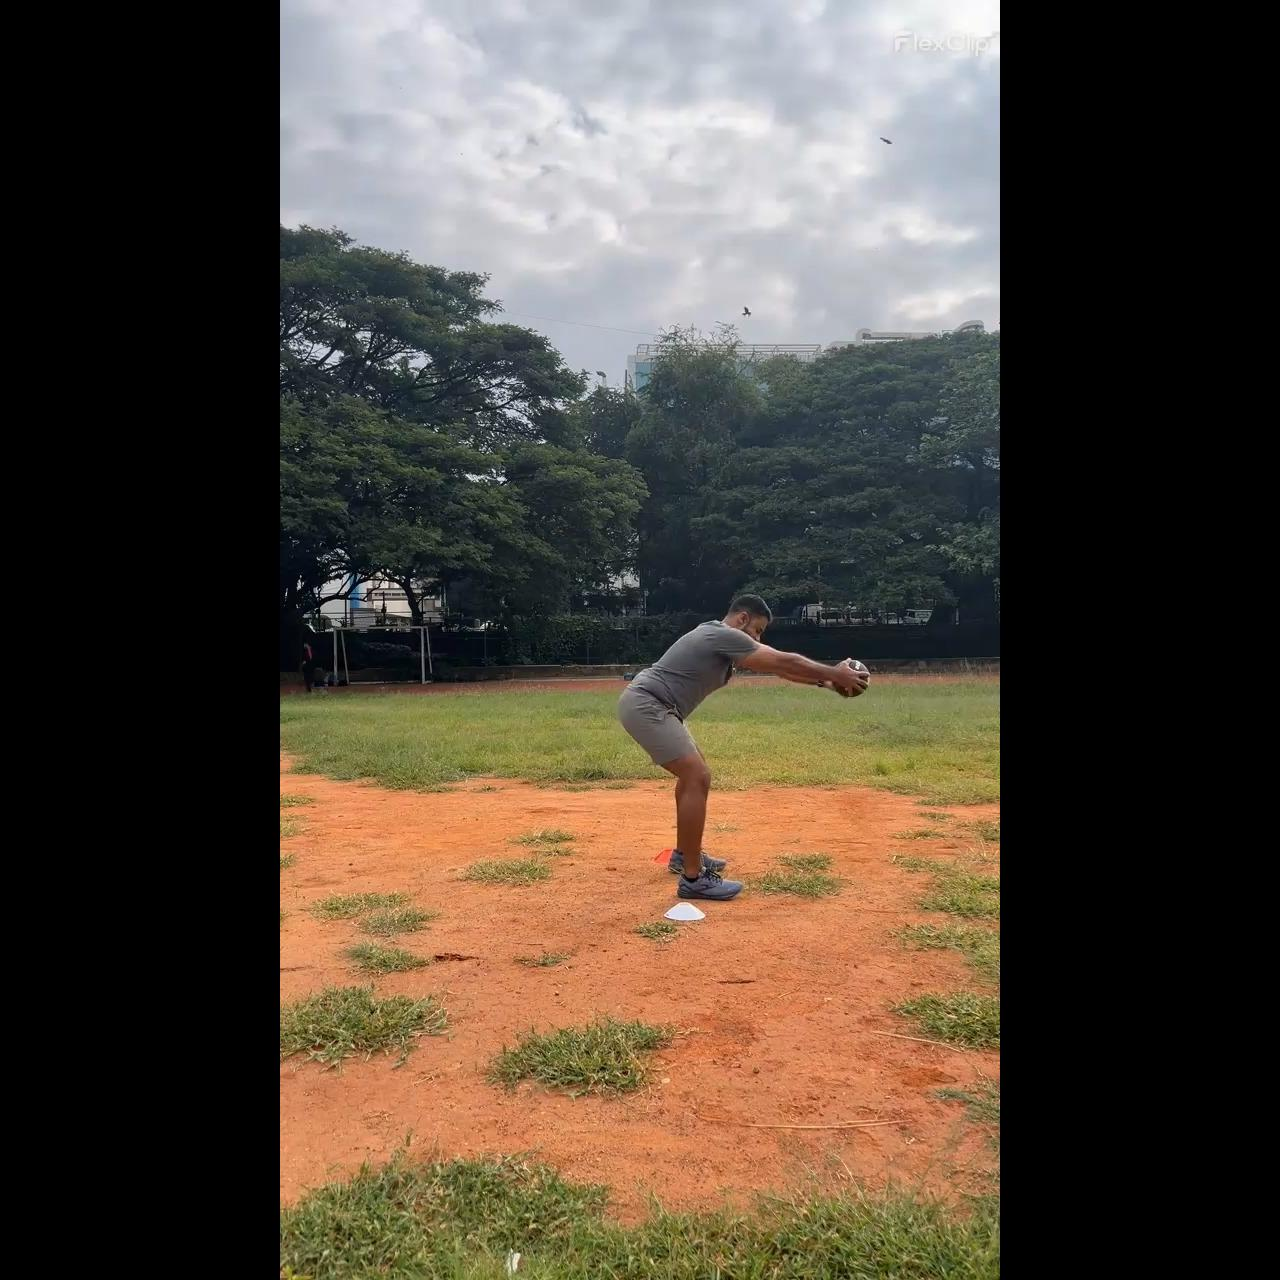Athelete: (617, 593, 872, 901)
